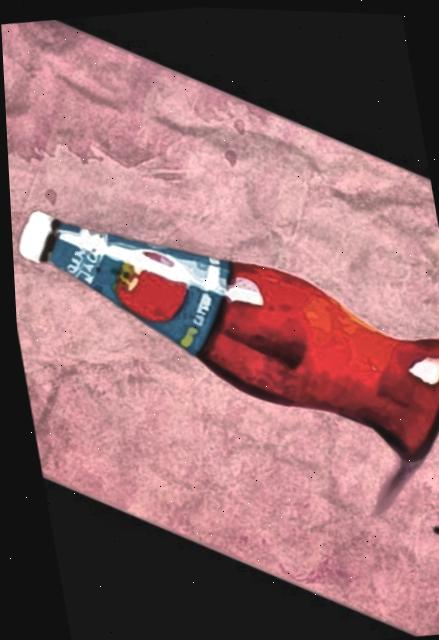La Botella: (1, 19, 439, 631)
